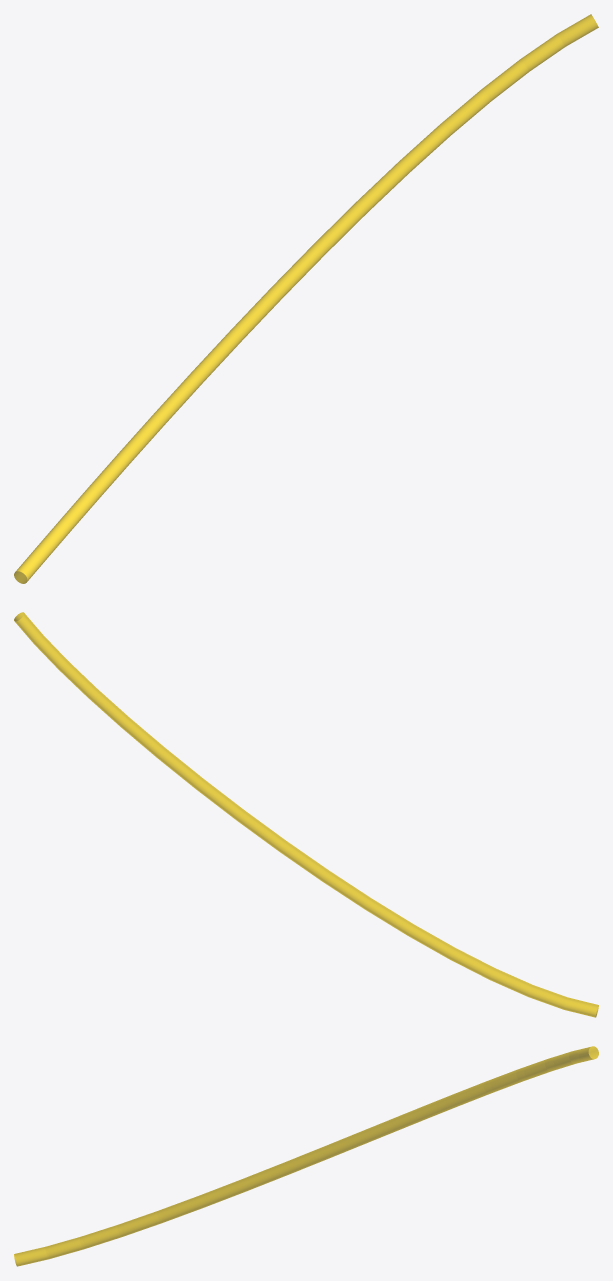
Rendered from Event_17758602_track_143.fbx.
The picture shows the model from 3 angles, top to bottom: view 1: azimuth 30°, elevation 25°; view 2: azimuth 150°, elevation 25°; view 3: azimuth 330°, elevation 25°; orthographic projection. The views are drawn at different scales.
Visible parts, largest first — view 1: Model; view 2: Model; view 3: Model.
Boxes of the visible parts, box(x1,y1,x2,y2) form: Model: box(14, 14, 598, 583); Model: box(14, 612, 598, 1017); Model: box(14, 1046, 598, 1266).
Size of the model in its own units: 1.89 by 1.05 by 0.3952.
